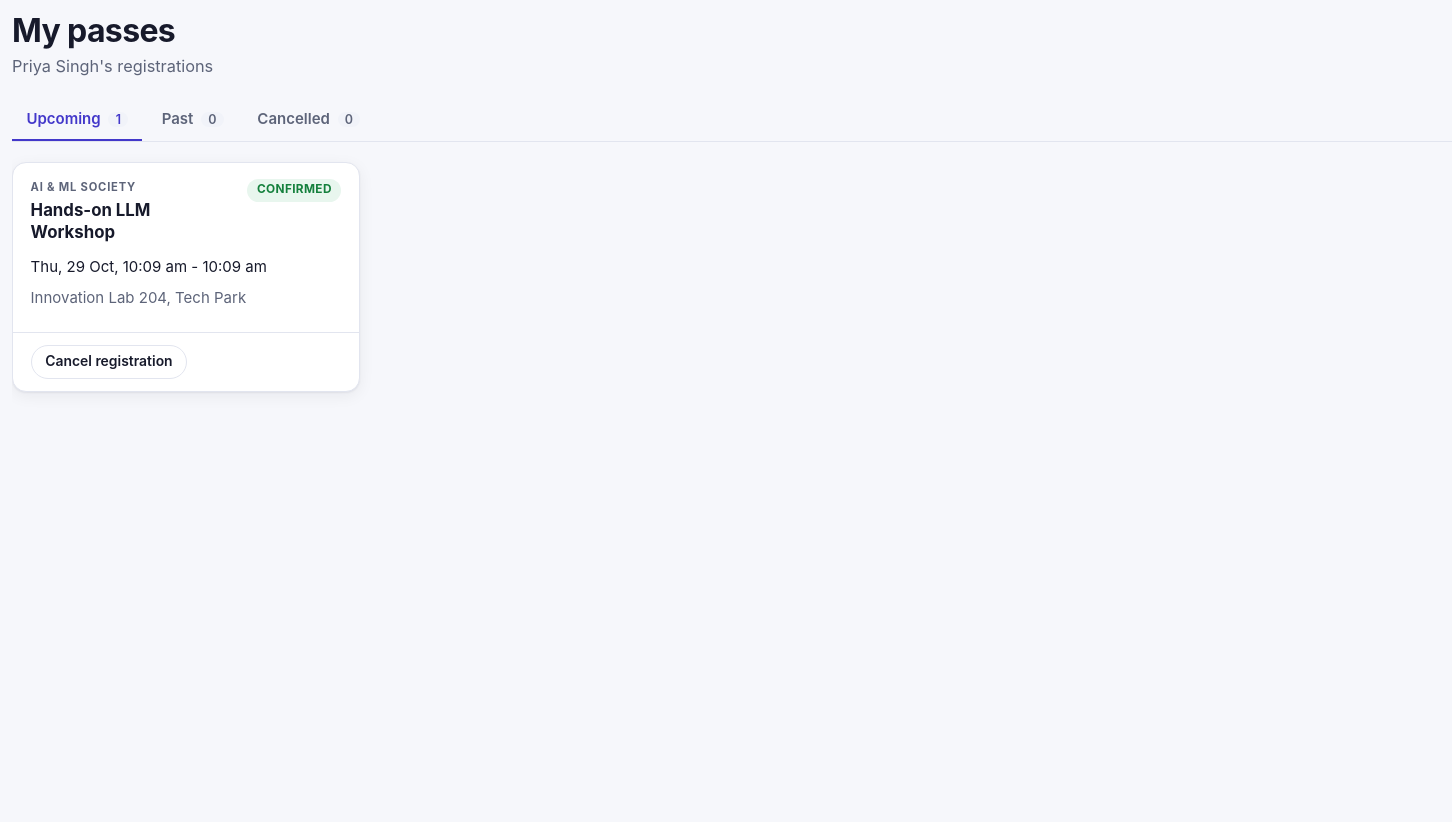
MyPassesPage › FS-T14 cancel is optimistic, and rolls back when the server refuses
Expected: the link "Hands-on LLM Workshop" is shown, [31,200,150,242]
Click the button "Cancel registration": (109, 362) [31,345,187,379]
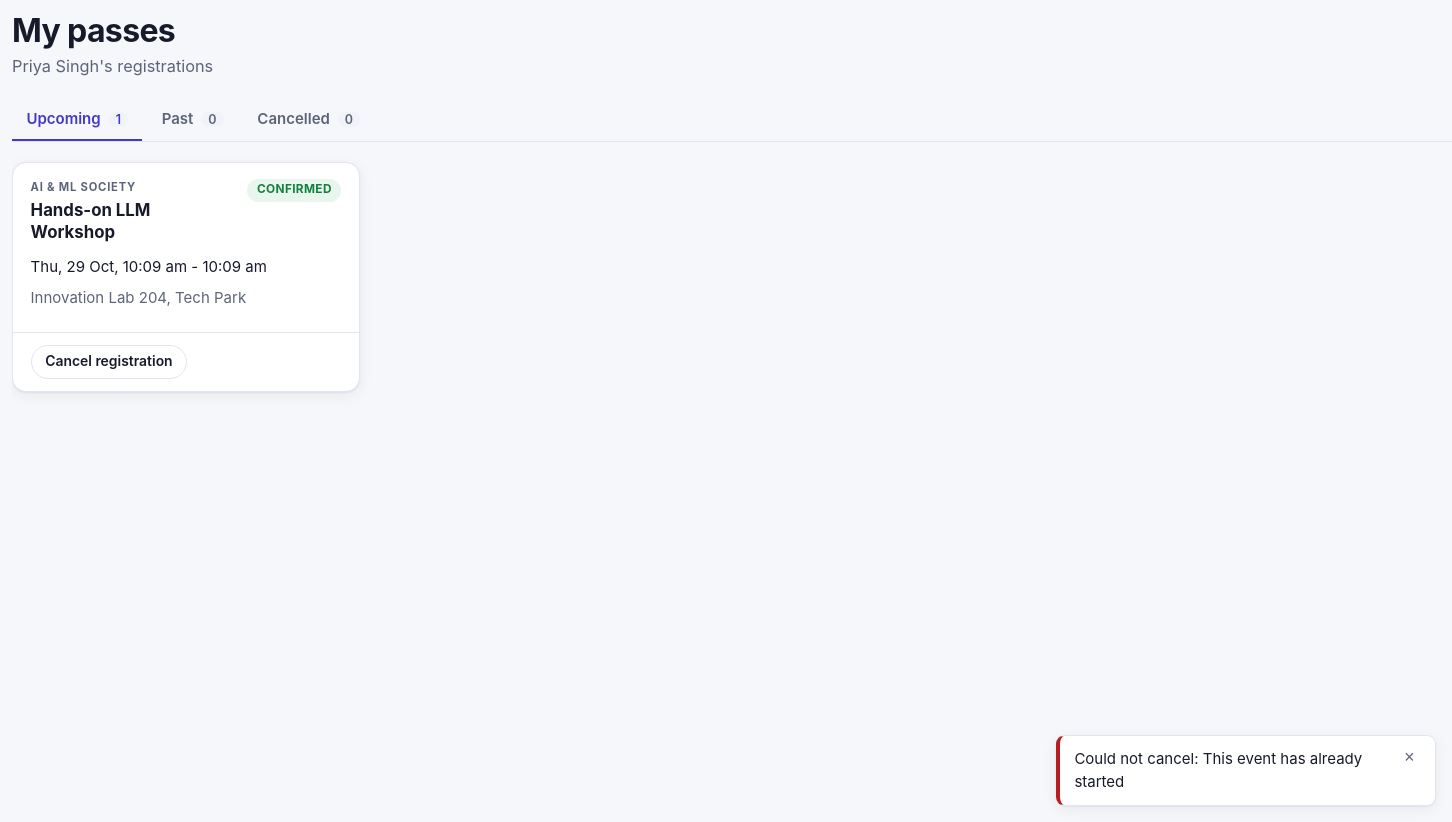
Expected: the text "Could not cancel: This event has already started" is shown, [1074,748,1386,793]
